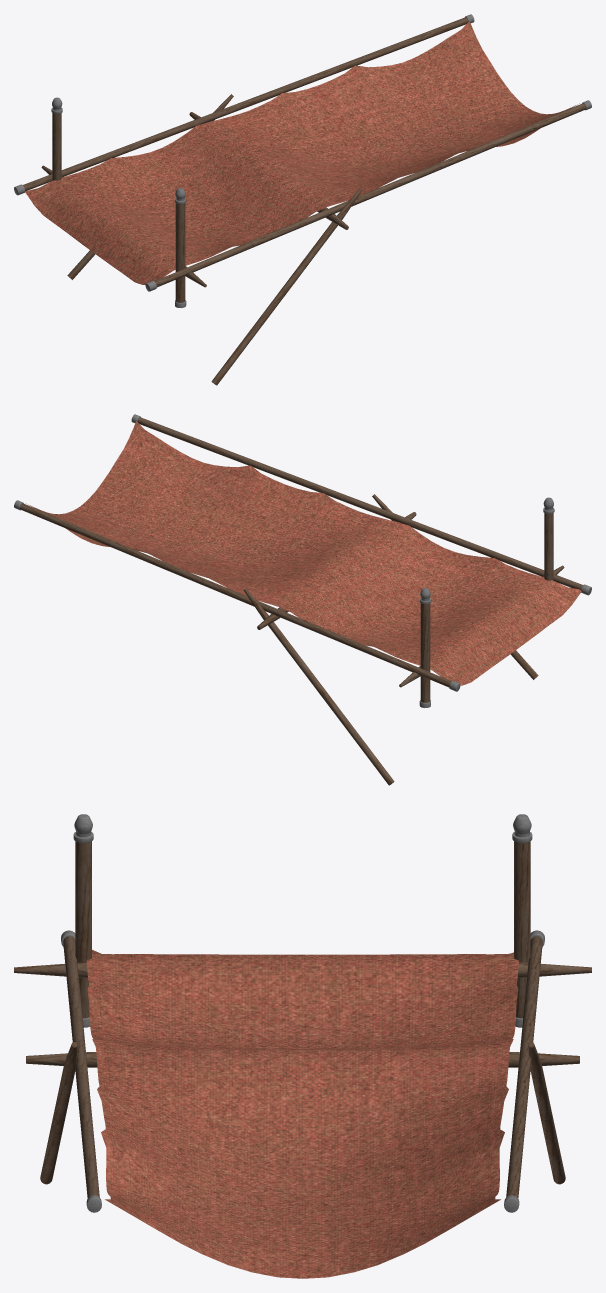
Rendered from Canopy.fbx.
3 views of the same model, one above another, from view 1: azimuth 30°, elevation 25°; view 2: azimuth 150°, elevation 25°; view 3: azimuth 270°, elevation 25° (orthographic). The views are drawn at different scales.
Visible parts, largest first — view 1: Canopy; view 2: Canopy; view 3: Canopy.
Part boxes in pixels (x1=…): Canopy: x1=14, y1=14, x2=591, y2=385; Canopy: x1=14, y1=414, x2=591, y2=785; Canopy: x1=14, y1=814, x2=591, y2=1278.
Bounding box in the file's own units: 18.32 × 7.57 × 11.45.
